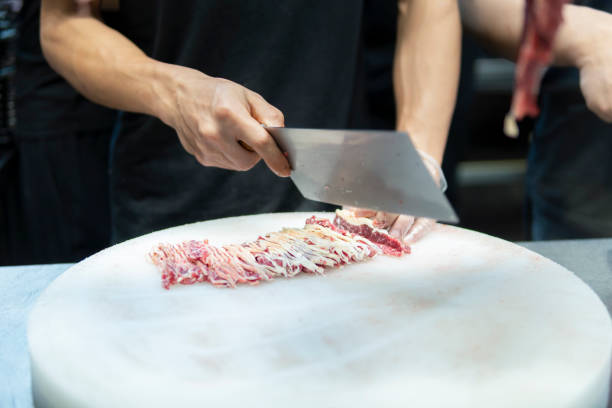knife: (234, 124, 463, 226)
